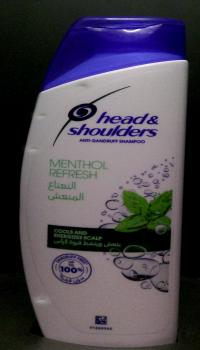dent_unacceptable: (20, 279, 54, 312), (63, 77, 94, 99), (29, 142, 51, 168), (31, 107, 56, 128)
